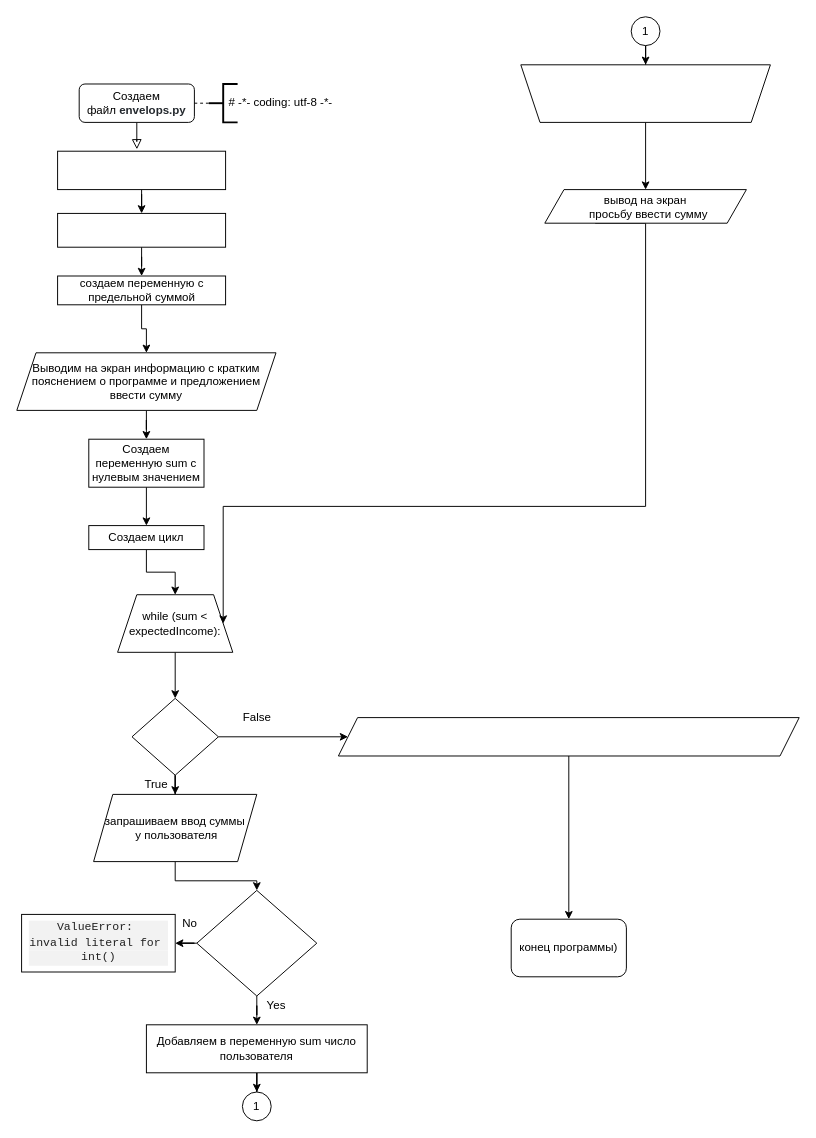
Image size: 816x1138. Some labels were removed from this diagram. The centre of each missing label's shape, as x and y in pixels:
"окончательный результат вывод в консоль таблицу распределенных сумм" goes at (x=568, y=736).
"пользователь ввел целочисленное значение?" goes at (x=256, y=942).
"пополняем конверты в соответствии с их процентными ставками" goes at (x=645, y=93).
"Создаем переменные с процентными ставками" goes at (x=141, y=229).
"Создаем пустые конверты" goes at (x=141, y=170).
"Условие True или False?" goes at (x=174, y=736).
